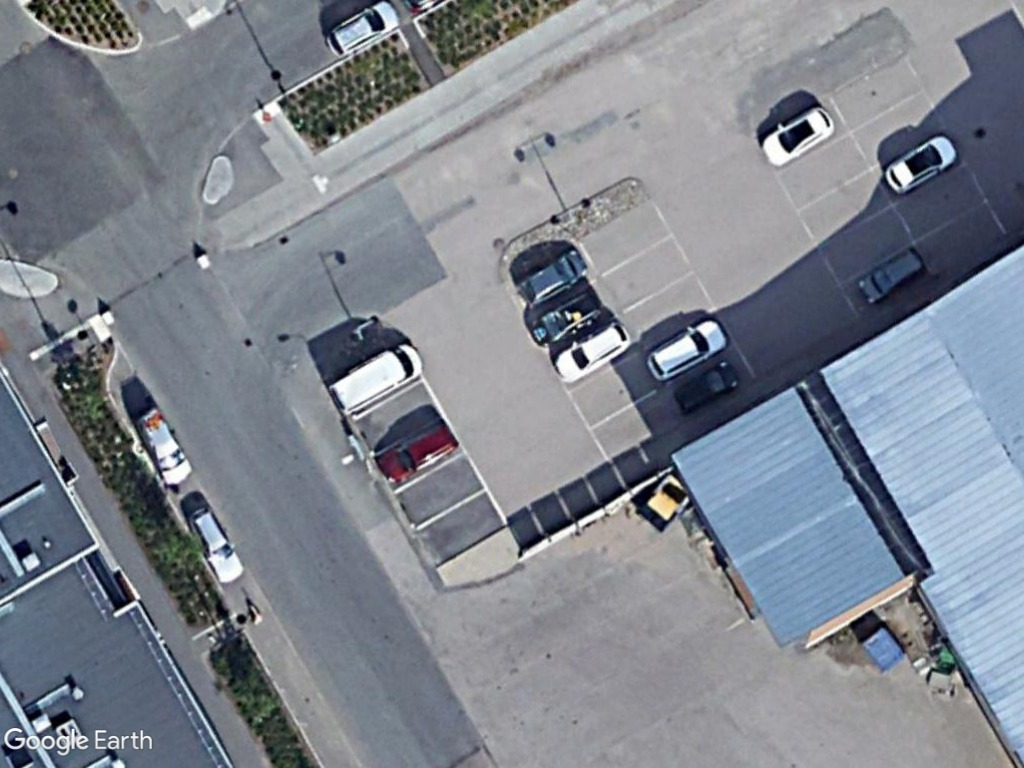car: (643, 315, 730, 384), (376, 420, 460, 490), (549, 319, 630, 386), (132, 405, 195, 490), (878, 132, 958, 195), (760, 105, 835, 171), (186, 506, 245, 588), (322, 0, 401, 59), (671, 355, 743, 419), (854, 244, 926, 306)
van: (326, 342, 425, 417)
